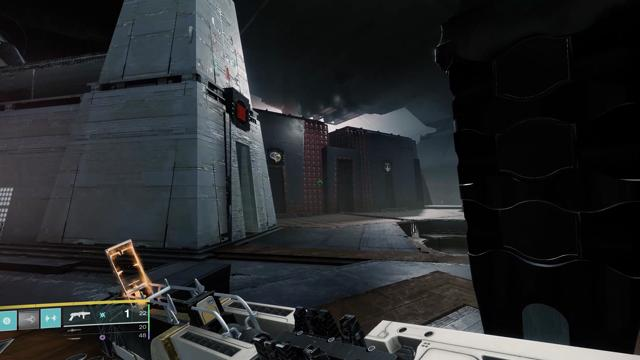brain: (268, 149, 282, 164)
drink: (383, 161, 392, 173)
stop: (235, 99, 249, 124)
